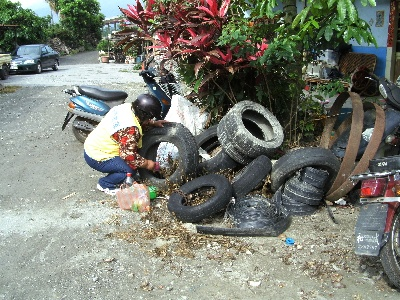plastic_bag: (118, 185, 150, 208)
tire: (137, 121, 199, 192), (265, 145, 340, 191), (226, 100, 285, 157), (167, 173, 232, 224), (231, 155, 271, 197), (284, 178, 321, 205)
